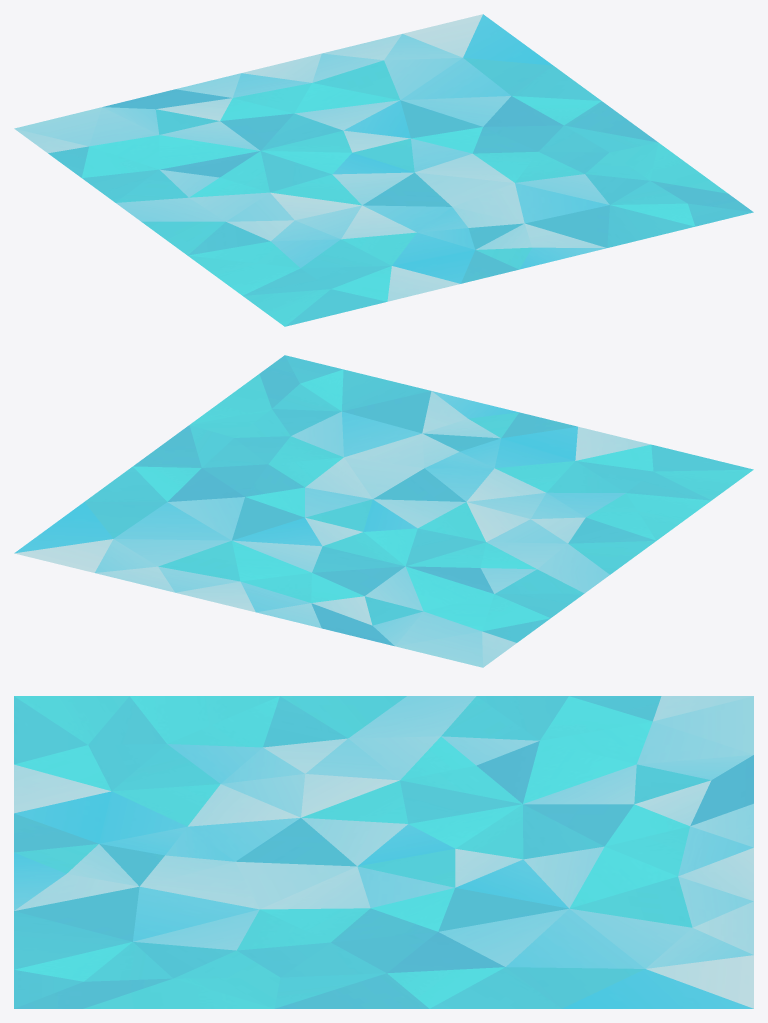
File: GL-Water-part-01-LOD3.fbx
3 renders of one model, top to bottom at view 1: azimuth 30°, elevation 25°; view 2: azimuth 150°, elevation 25°; view 3: azimuth 270°, elevation 25°, orthographic. The views are drawn at different scales.
Visible parts, largest first — view 1: GL_Water_part_01; view 2: GL_Water_part_01; view 3: GL_Water_part_01.
Boxes of the visible parts, x1,y1,x2,y2 form: GL_Water_part_01: (14, 14, 753, 326); GL_Water_part_01: (14, 355, 753, 667); GL_Water_part_01: (14, 696, 753, 1008).
Bounding box in the file's own units: 12 × 0 × 12.
